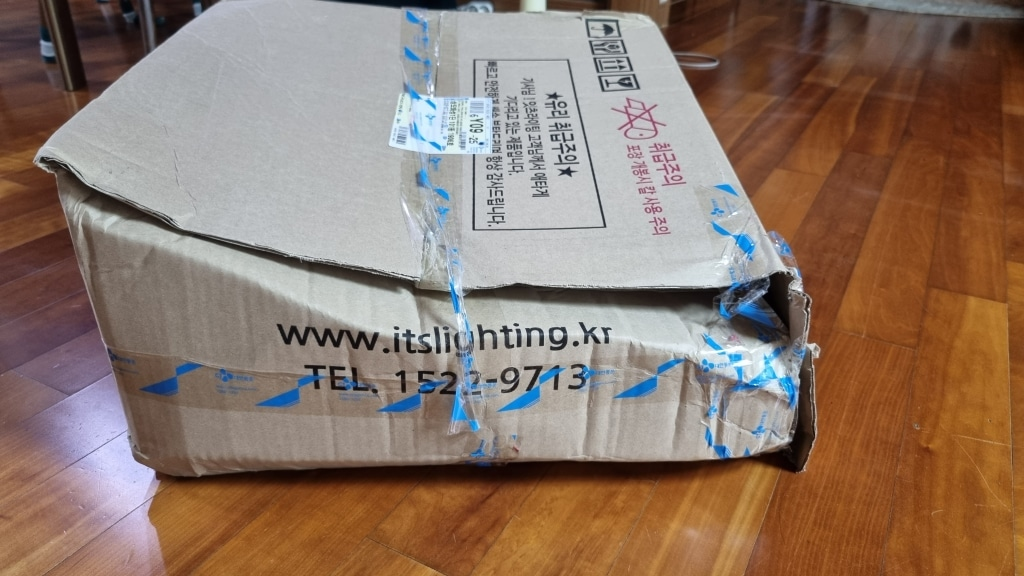damaged package: (42, 156, 794, 358), (738, 339, 814, 469)
